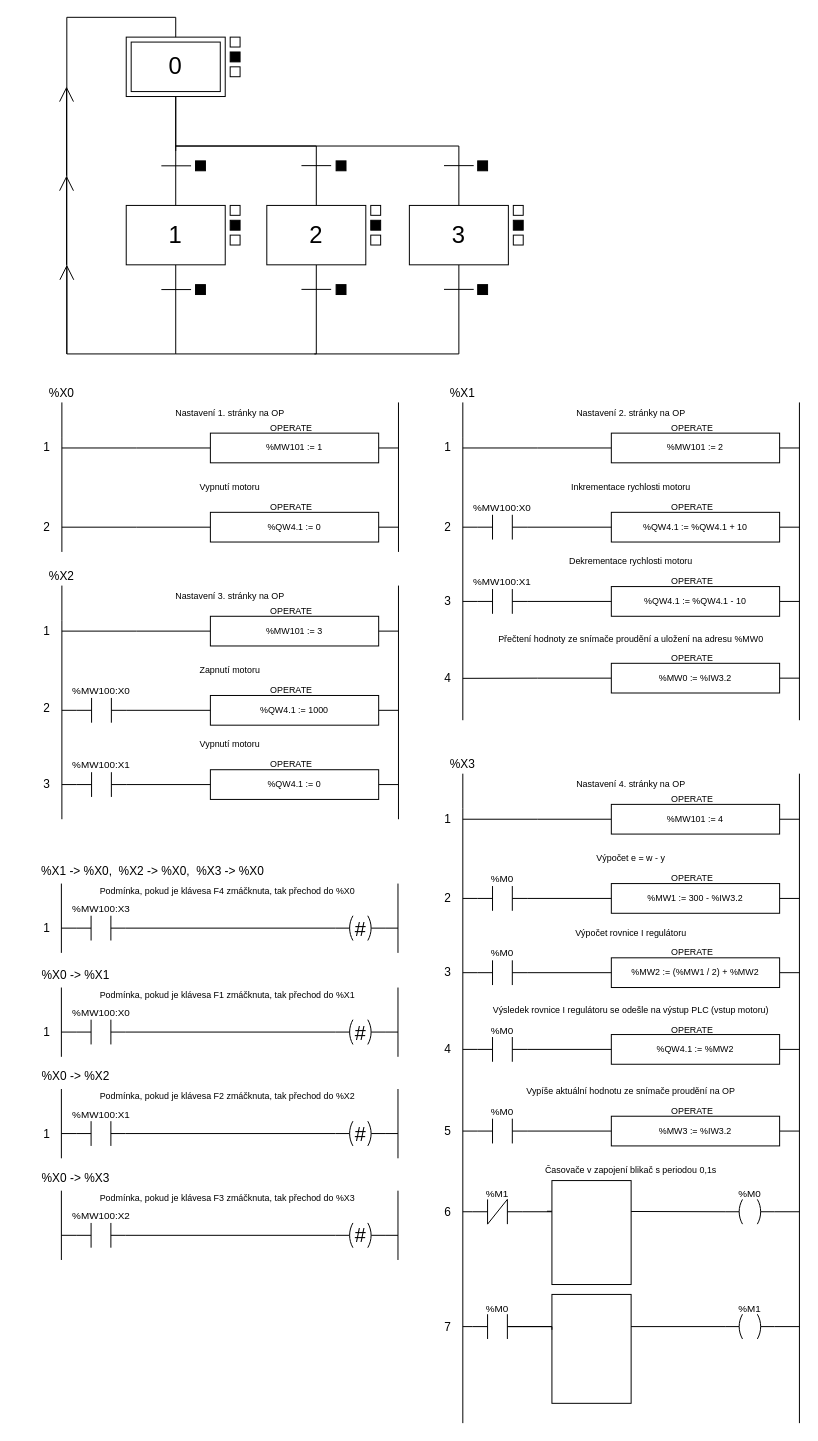
Image size: 818x1441. Some labels were removed from this diagram. Each missing label, with the centre of its shape:
%TM0 IN Q TYPE TON TB 50 ms ADJ Y %TM0.P 1: the point at 591,1232
%TM1 IN Q TYPE TON TB 50 ms ADJ Y %TM1.P 1: the point at 591,1348
